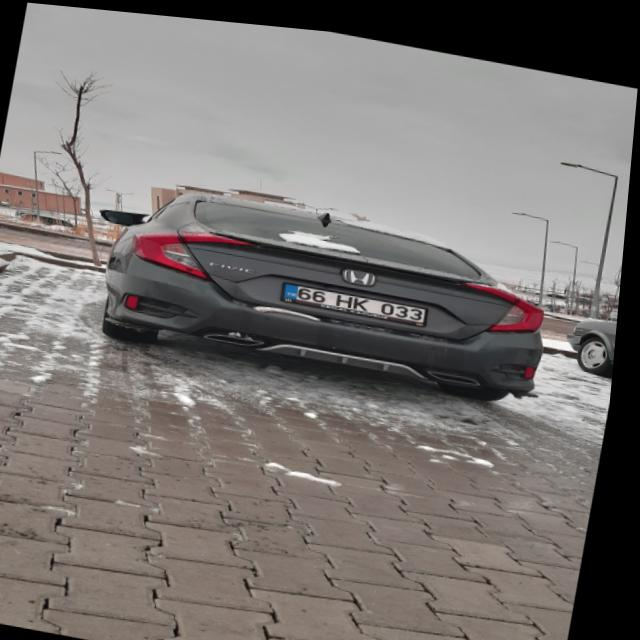license_plate: (285, 276, 434, 315)
